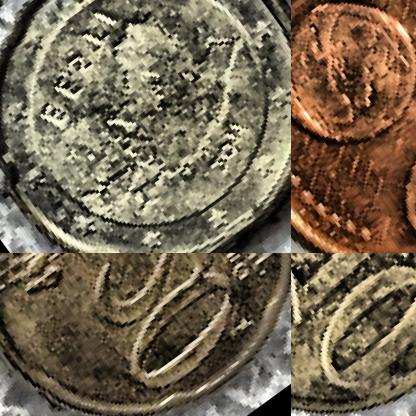coin: (0, 0, 290, 252), (0, 253, 290, 415), (291, 0, 415, 252), (291, 253, 415, 415)
